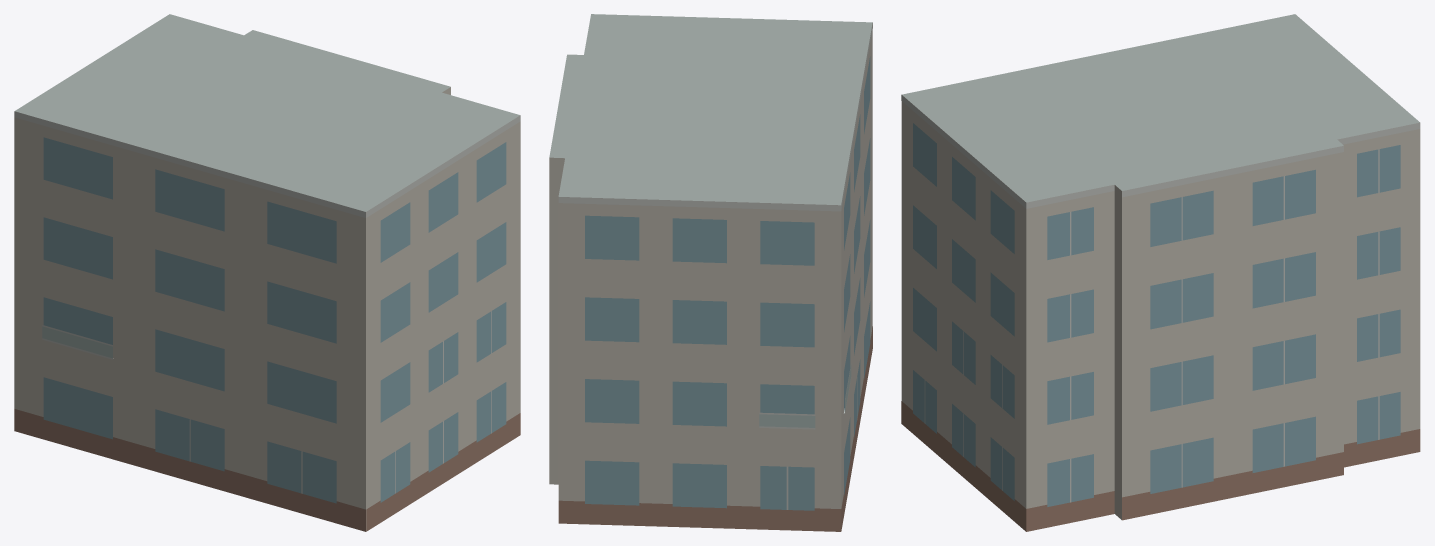
File: survey-upis-32828250.glb
The picture shows the model from 3 angles, left to right: view 1: azimuth 30°, elevation 25°; view 2: azimuth 150°, elevation 25°; view 3: azimuth 270°, elevation 25°; orthographic projection. The views are drawn at different scales.
Visible parts, largest first — view 1: survey-upis-32828250.tmp; view 2: survey-upis-32828250.tmp; view 3: survey-upis-32828250.tmp.
Boxes of the visible parts, <box> form: survey-upis-32828250.tmp: <box>14,14,520,531</box>; survey-upis-32828250.tmp: <box>549,14,872,531</box>; survey-upis-32828250.tmp: <box>901,14,1420,531</box>.
Bounding box in the file's own units: 15.73 × 12.8 × 18.29.
